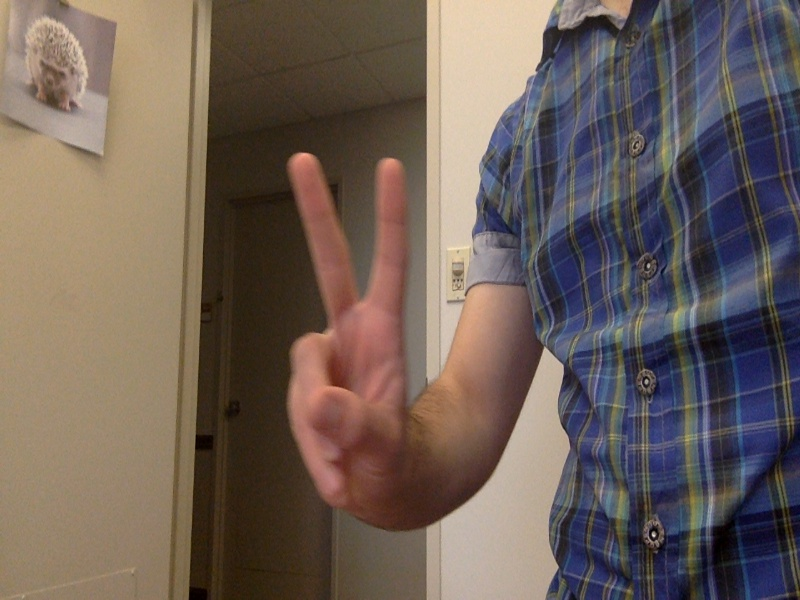2-hand: (280, 152, 410, 521)
